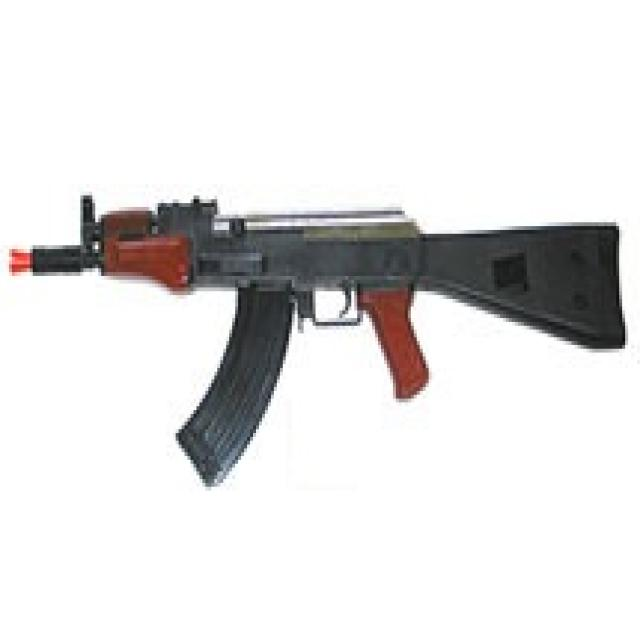Gun: (0, 179, 640, 487)
